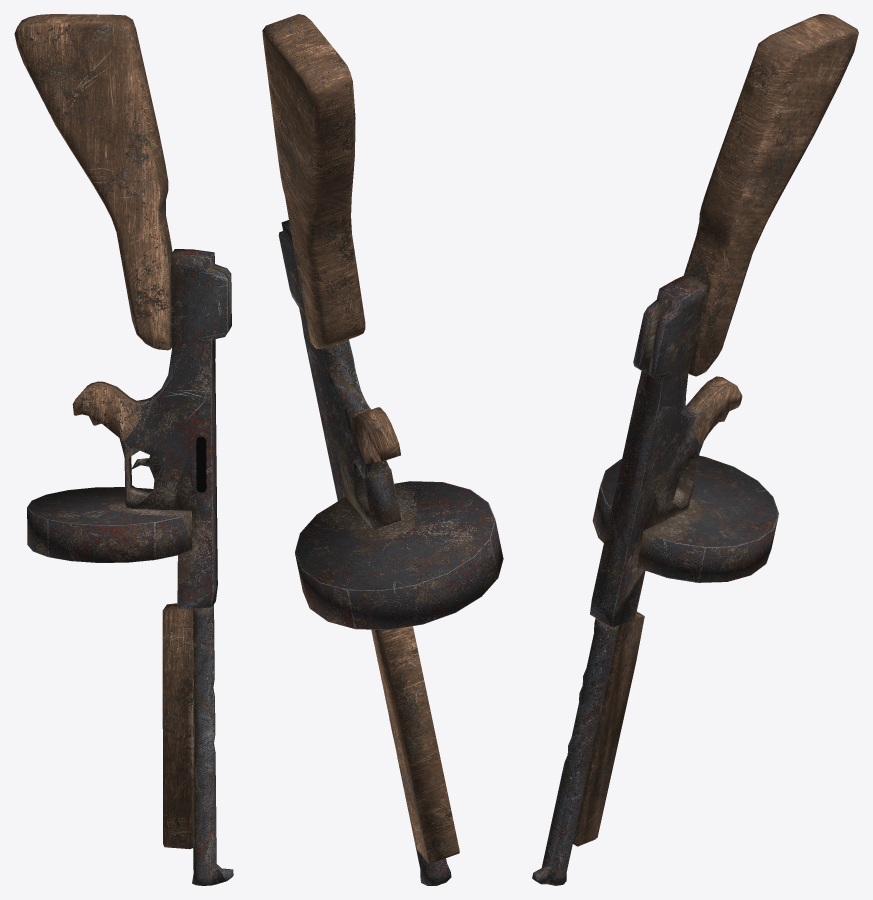
File: Anim_idle_ametralladora_objetos.0026.obj
The picture shows the model from 3 angles, left to right: view 1: azimuth 30°, elevation 25°; view 2: azimuth 150°, elevation 25°; view 3: azimuth 270°, elevation 25°; orthographic projection. The views are drawn at different scales.
Visible parts, largest first — view 1: Ametralladora1; view 2: Ametralladora1; view 3: Ametralladora1.
Boxes of the visible parts, left/top/right/bottom form: Ametralladora1: left=14, top=14, right=233, bottom=885; Ametralladora1: left=262, top=14, right=503, bottom=885; Ametralladora1: left=532, top=14, right=858, bottom=885.
Size of the model in its own units: 1.44 by 5.89 by 2.06.
